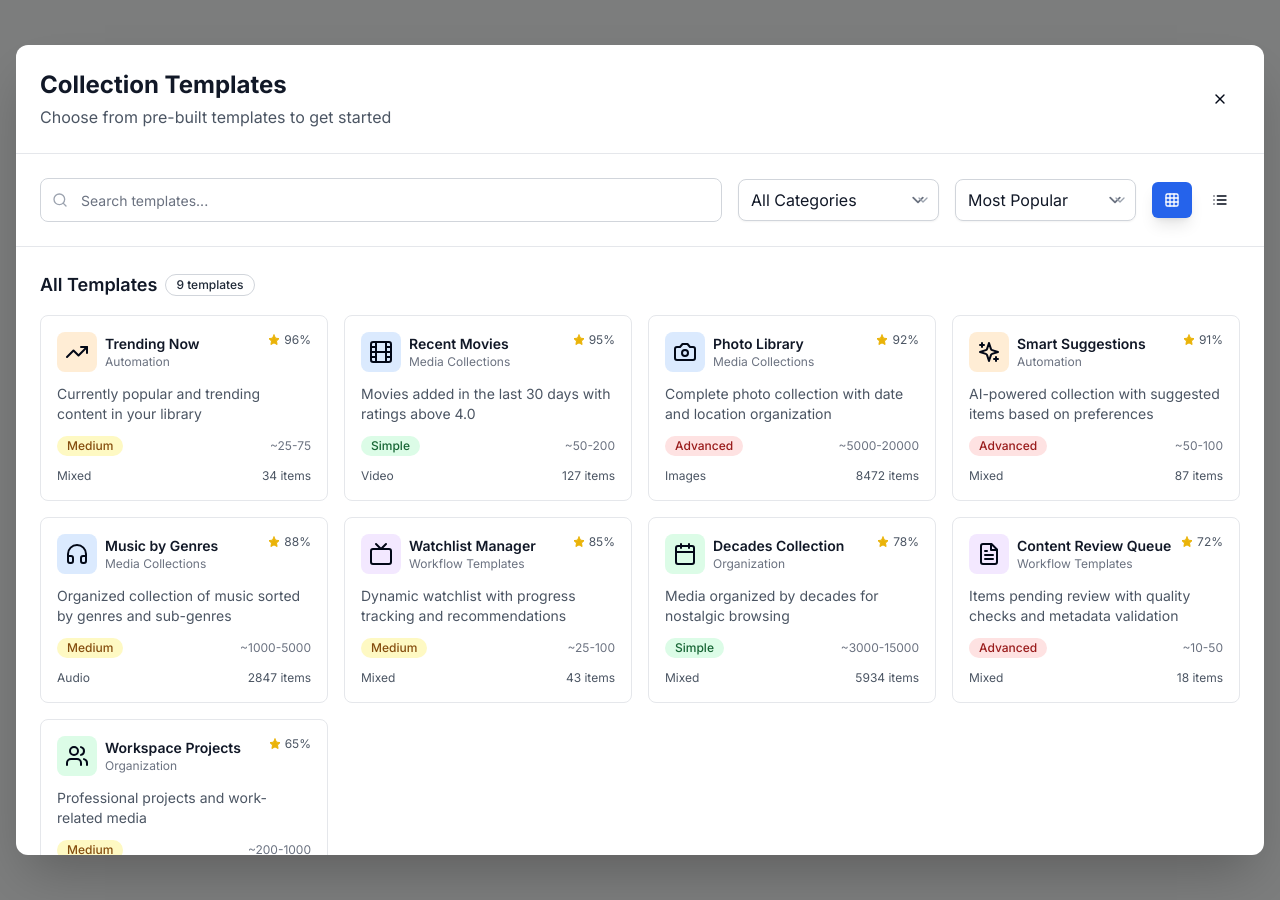
Test: CollectionTemplates › opens template detail when clicked
Click the heading "Recent Movies". click: (460, 344)
box: x1=409 y1=334 x2=510 y2=354
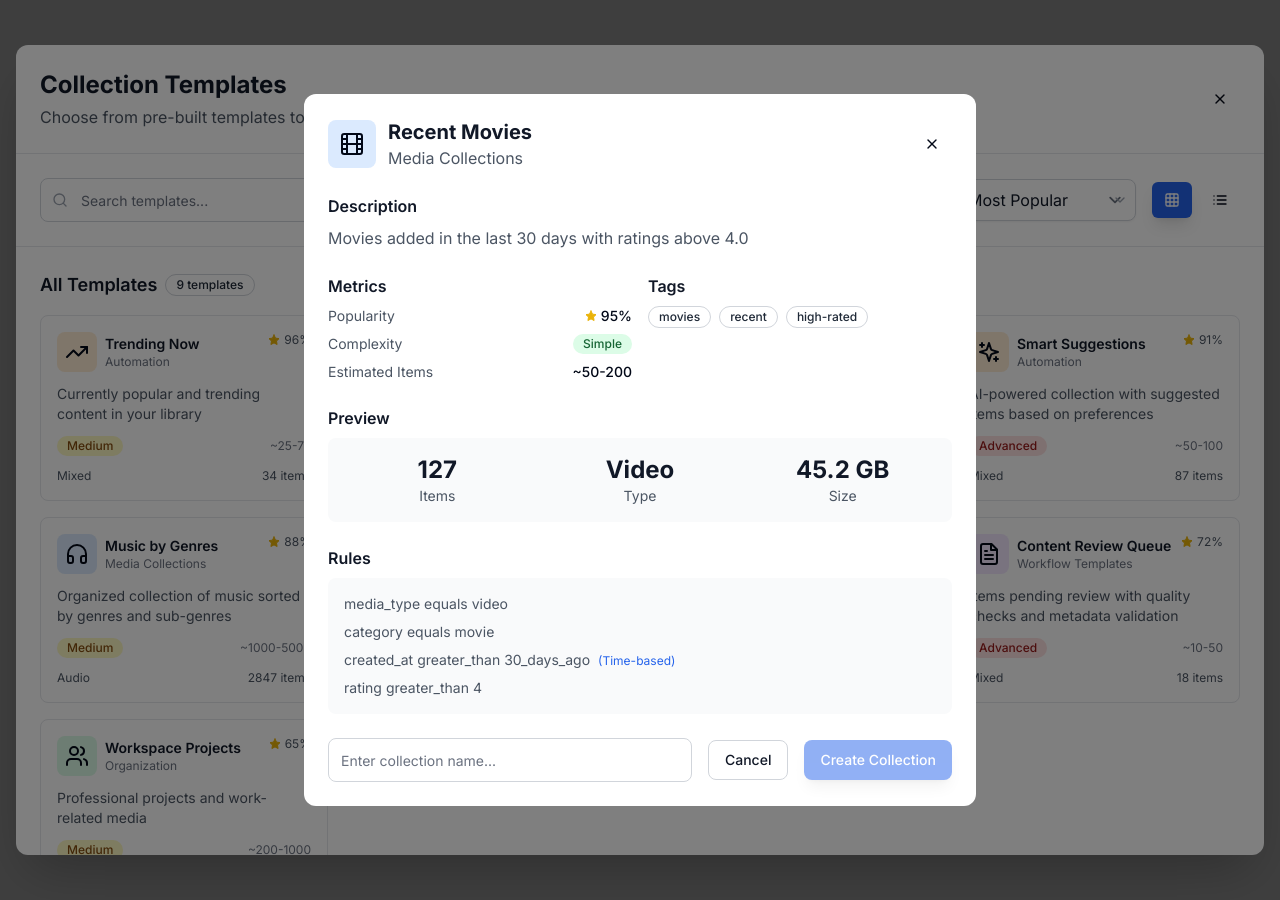
Expected: the heading "Description" is shown, x1=328 y1=196 x2=417 y2=216
Expected: the heading "Metrics" is shown, x1=328 y1=276 x2=387 y2=296
Expected: the heading "Tags" is shown, x1=648 y1=276 x2=685 y2=296
